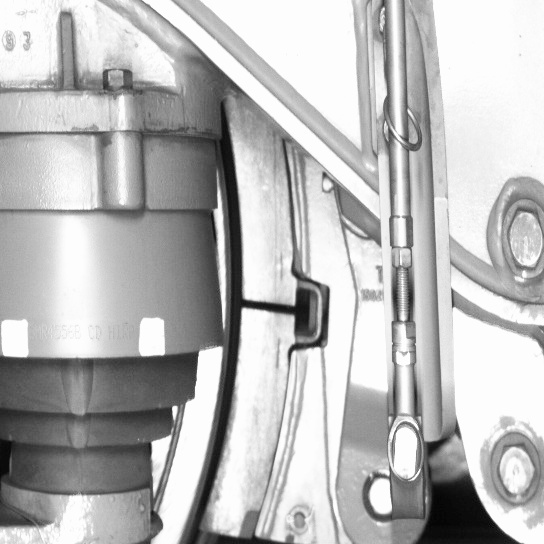KnifeSwitch: (177, 135, 309, 542)
